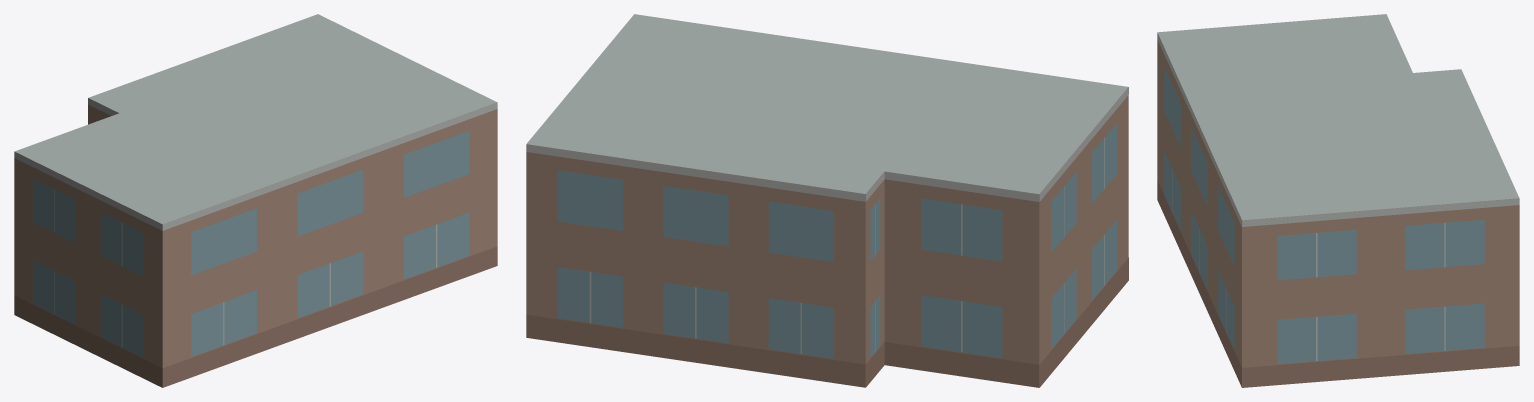
File: survey-upis-33024198.glb
The picture shows the model from 3 angles, left to right: view 1: azimuth 30°, elevation 25°; view 2: azimuth 150°, elevation 25°; view 3: azimuth 270°, elevation 25°; orthographic projection. The views are drawn at different scales.
Visible parts, largest first — view 1: survey-upis-33024198.tmp; view 2: survey-upis-33024198.tmp; view 3: survey-upis-33024198.tmp.
Part boxes in pixels (x1,y1,x2,y2): survey-upis-33024198.tmp: [14, 14, 497, 387]; survey-upis-33024198.tmp: [526, 14, 1128, 387]; survey-upis-33024198.tmp: [1157, 14, 1519, 387].
Bounding box in the file's own units: 16.12 × 6.1 × 11.96.
